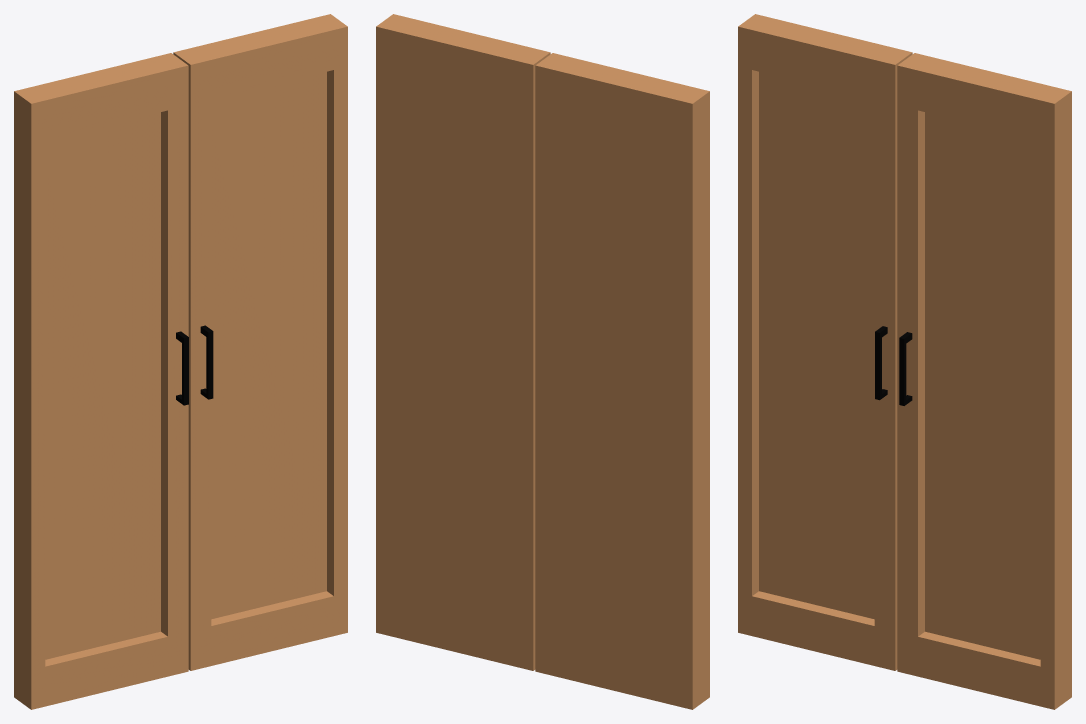
File: dolapkapagi.fbx
The picture shows the model from 3 angles, left to right: view 1: azimuth 30°, elevation 25°; view 2: azimuth 150°, elevation 25°; view 3: azimuth 330°, elevation 25°; orthographic projection.
Visible parts, largest first — view 1: Cube.002, Cube.001, Cube.004, Cube.003; view 2: Cube.002, Cube.001; view 3: Cube.001, Cube.002, Cube.004, Cube.003.
Part boxes in pixels (bbox=[...]): Cube.002: bbox=[14, 53, 188, 709]; Cube.001: bbox=[173, 14, 347, 670]; Cube.004: bbox=[200, 325, 213, 399]; Cube.003: bbox=[176, 331, 188, 405]; Cube.002: bbox=[535, 53, 709, 709]; Cube.001: bbox=[376, 14, 550, 670]; Cube.001: bbox=[897, 53, 1071, 709]; Cube.002: bbox=[738, 14, 912, 670]; Cube.004: bbox=[899, 332, 912, 405]; Cube.003: bbox=[875, 326, 887, 400].
Size of the model in its own units: 155 by 284 by 21.42.
